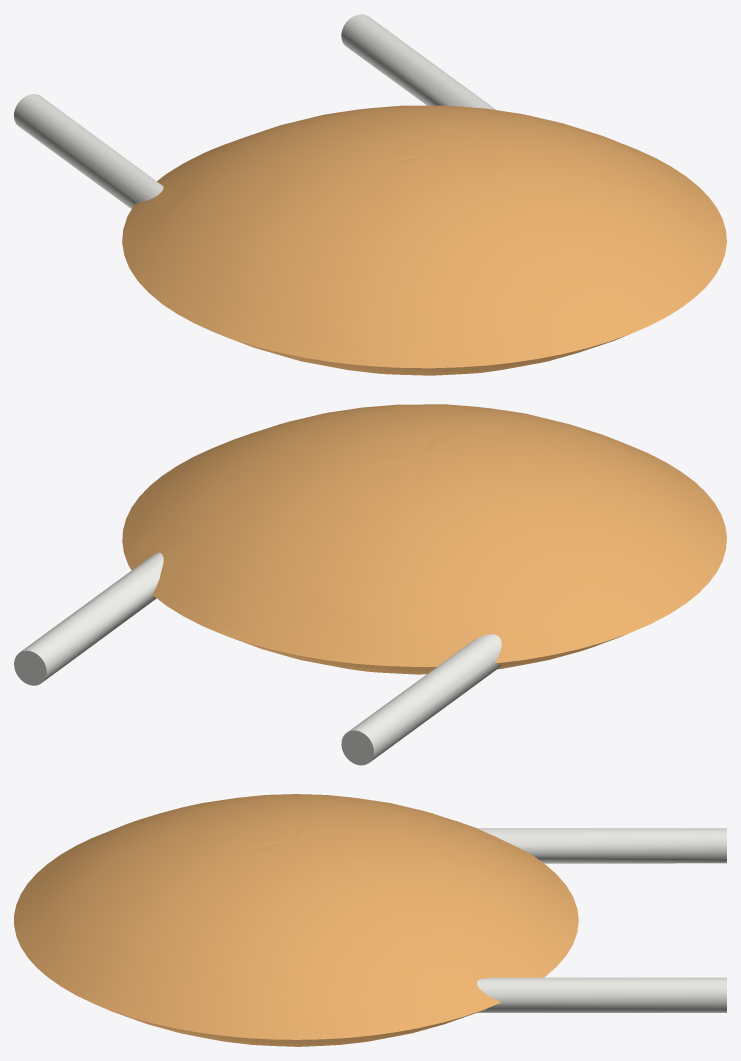
The model's file is C_Disc_D8.0mm_W2.5mm_P5.00mm.glb.
3 renders of one model, top to bottom at view 1: azimuth 30°, elevation 25°; view 2: azimuth 150°, elevation 25°; view 3: azimuth 270°, elevation 25°, orthographic. The views are drawn at different scales.
Visible parts, largest first — view 1: Shape_IndexedFaceSet.003, Shape_IndexedFaceSet.001, Shape_IndexedFaceSet.004, Shape_IndexedFaceSet.002; view 2: Shape_IndexedFaceSet.003, Shape_IndexedFaceSet.001, Shape_IndexedFaceSet.004, Shape_IndexedFaceSet.002, Shape_IndexedFaceSet.005, Shape_IndexedFaceSet; view 3: Shape_IndexedFaceSet.003, Shape_IndexedFaceSet.004, Shape_IndexedFaceSet.001, Shape_IndexedFaceSet.002.
Part boxes in pixels (x1,y1,x2,y2): Shape_IndexedFaceSet.003: [122, 105, 726, 368]; Shape_IndexedFaceSet.001: [14, 94, 163, 208]; Shape_IndexedFaceSet.004: [341, 14, 495, 109]; Shape_IndexedFaceSet.002: [220, 334, 627, 375]; Shape_IndexedFaceSet.003: [122, 404, 726, 666]; Shape_IndexedFaceSet.001: [348, 634, 501, 762]; Shape_IndexedFaceSet.004: [20, 552, 163, 681]; Shape_IndexedFaceSet.002: [220, 633, 626, 674]; Shape_IndexedFaceSet.005: [14, 650, 46, 685]; Shape_IndexedFaceSet: [341, 730, 373, 765]; Shape_IndexedFaceSet.003: [14, 794, 578, 1039]; Shape_IndexedFaceSet.004: [477, 977, 726, 1012]; Shape_IndexedFaceSet.001: [477, 828, 726, 863]; Shape_IndexedFaceSet.002: [98, 1004, 496, 1046].
Bounding box in the file's own units: 3.15 × 0.984 × 3.98.
